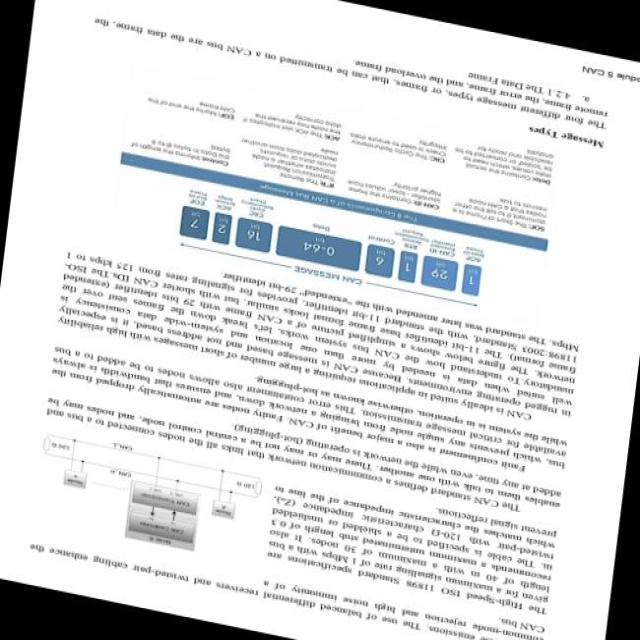Figure Detection - v3 Dataset Version2: (24, 418, 269, 571)
